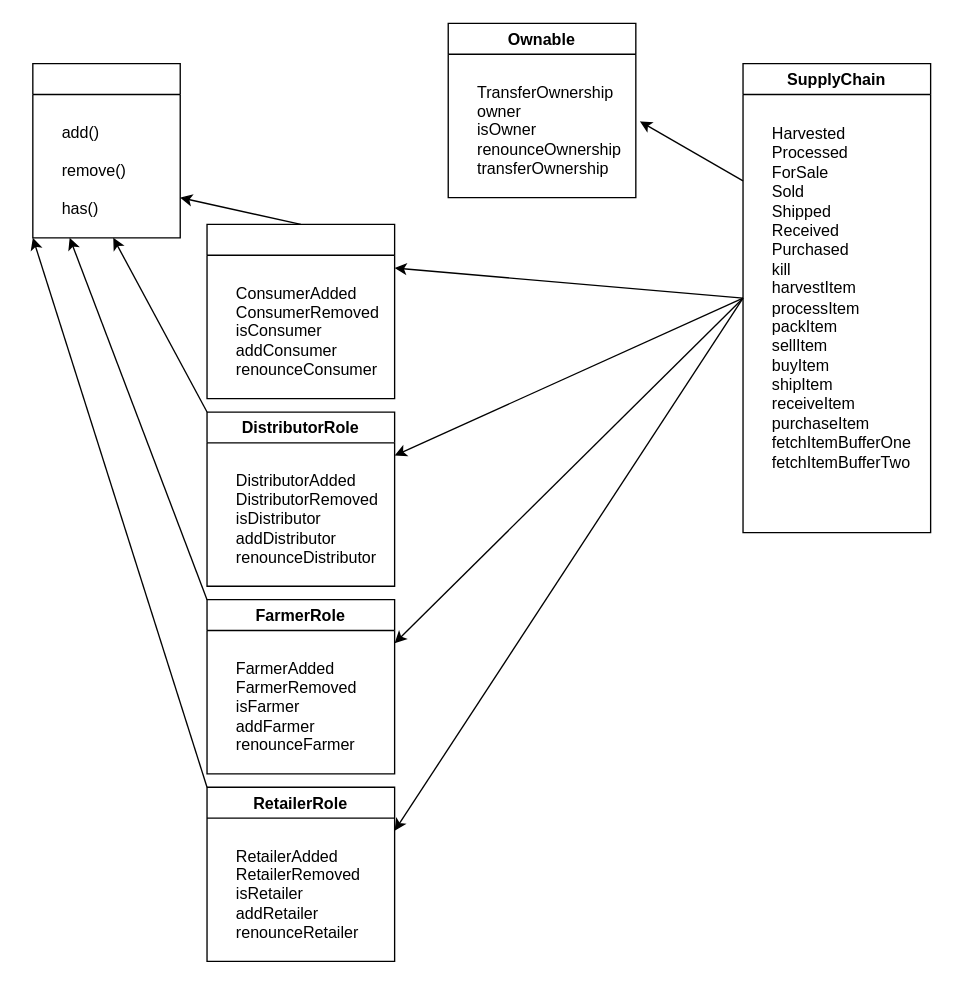
Some shapes in this 954 by 985 pixel diagram are drawn without their labels. The shapes that lost their labels are listed below. From the top down, each one's box as (x1, y1, x2, y2) in pixels, then its label:
(31, 62, 180, 238): Roles
(206, 223, 395, 399): ConsumerRole
